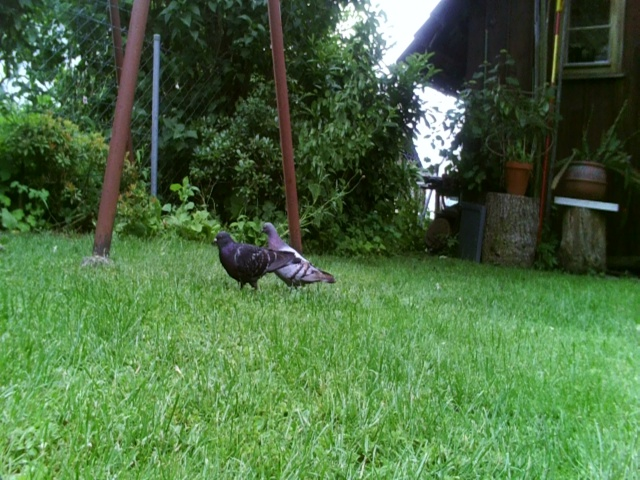Pigeon: (258, 219, 340, 296), (210, 230, 298, 295)
